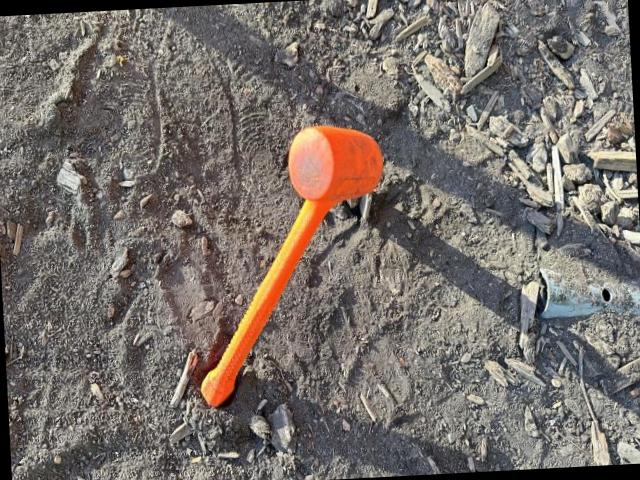hammer: (190, 122, 396, 408)
